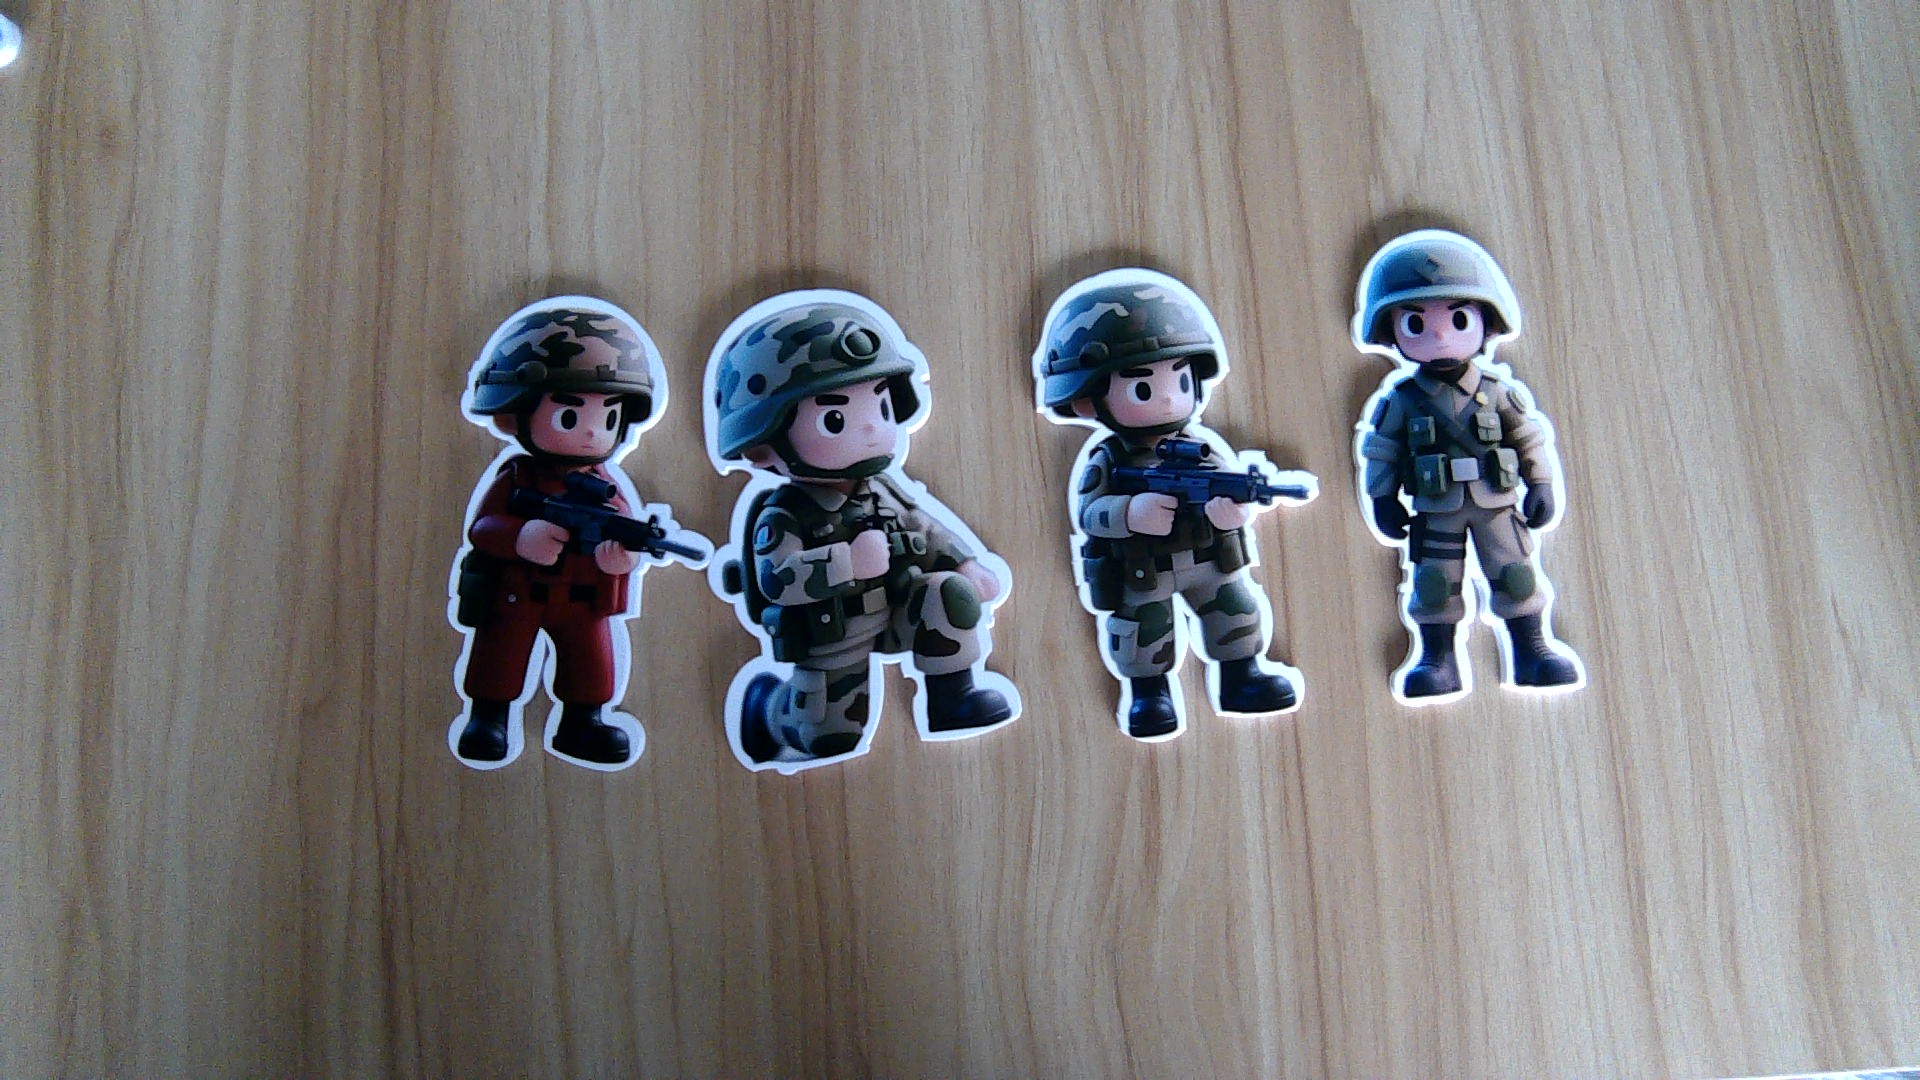友军: (707, 471, 1022, 777), (1344, 367, 1592, 712), (1062, 433, 1319, 741)
敌人1: (431, 462, 698, 775)
